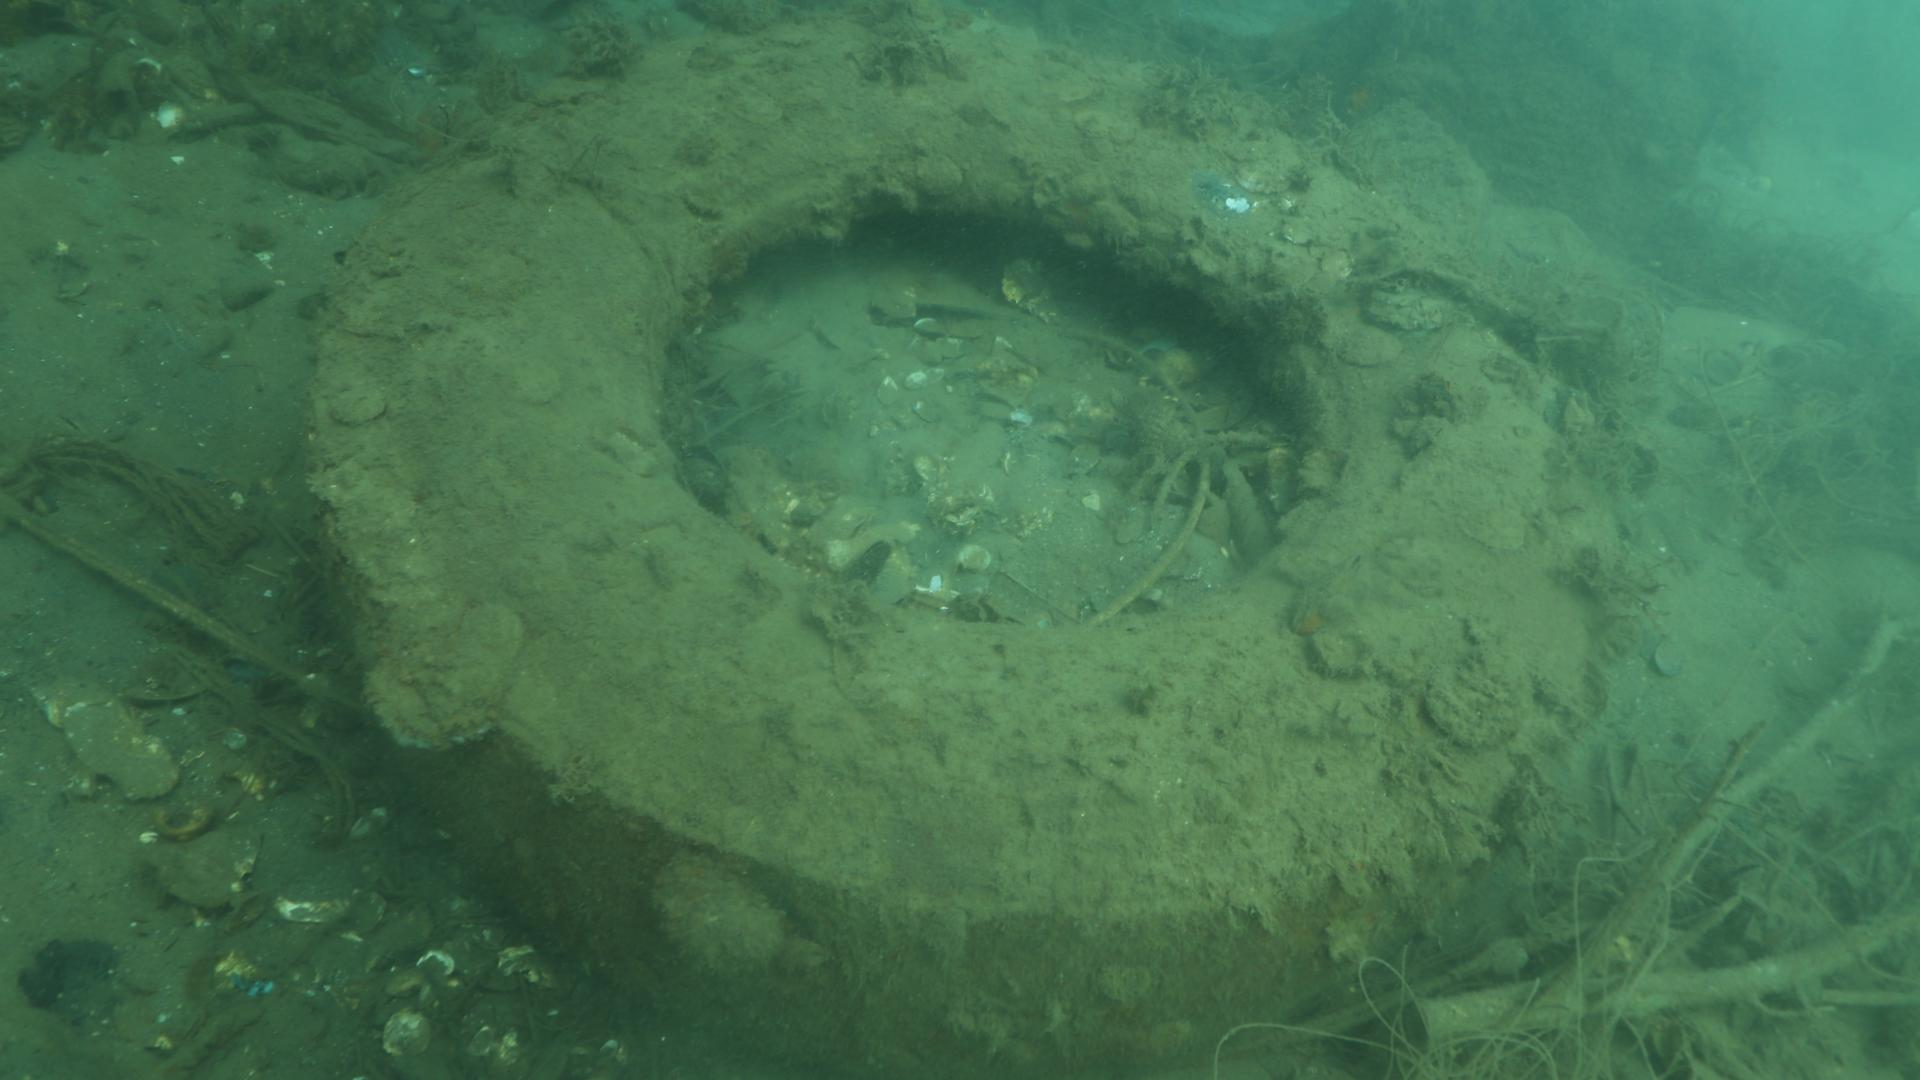tire: (310, 16, 1622, 1075)
